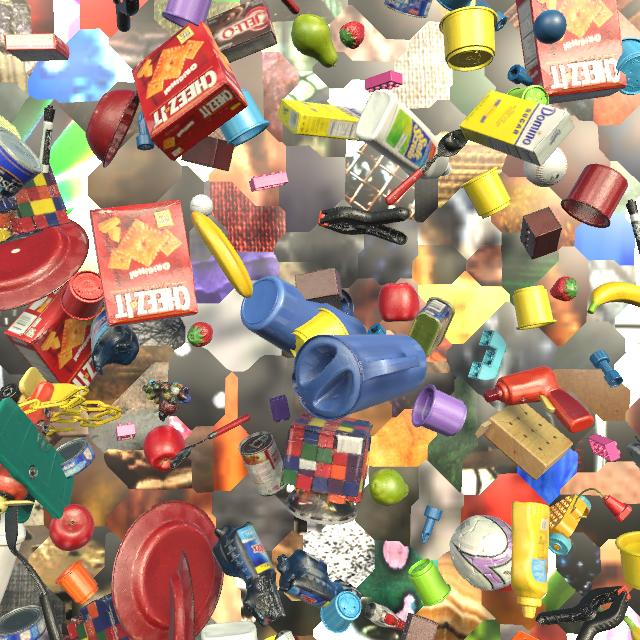ycb_002_master_chef_can: (0, 127, 43, 202)
ycb_003_cracker_box: (132, 21, 248, 161), (89, 199, 198, 327), (516, 0, 627, 104), (4, 280, 103, 394)
ycb_004_sugar_box: (459, 90, 575, 166), (278, 99, 363, 141)
ycb_005_tomato_soup_can: (238, 431, 288, 496)
ycb_006_mustard_bottle: (511, 501, 550, 619)
ycb_007_tuna_fish_can: (56, 437, 95, 479), (0, 605, 46, 640), (384, 0, 432, 18)
ycb_008_pudding_box: (206, 0, 277, 63)
ycb_009_gelatin_box: (4, 33, 70, 61)
ycb_010_potted_meat_can: (408, 296, 455, 359)
ycb_011_banana: (191, 211, 253, 298), (587, 282, 640, 314), (623, 615, 640, 640)
ycb_012_strawberry: (339, 21, 364, 49), (550, 276, 578, 301), (187, 322, 213, 347)
ycb_013_apple: (49, 504, 95, 551), (143, 426, 185, 471), (378, 283, 420, 322)
ycb_016_pear: (291, 14, 338, 68), (368, 468, 409, 506)
ycb_018_plum: (130, 521, 134, 526)
